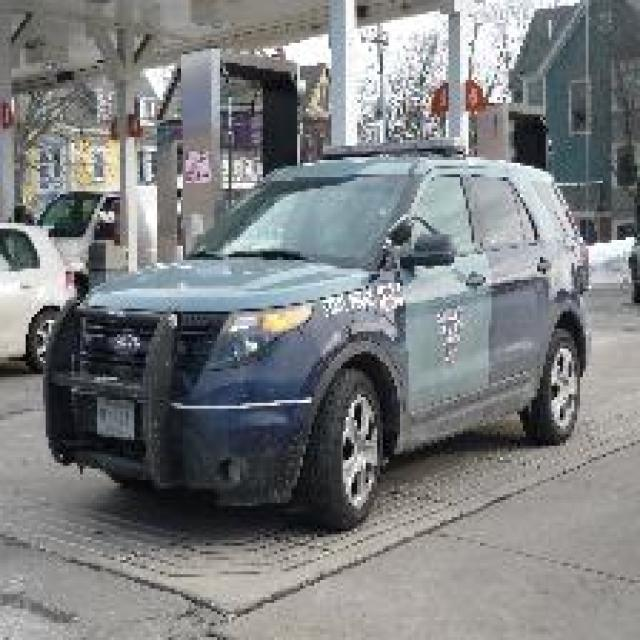Police-car: (40, 134, 591, 529)
